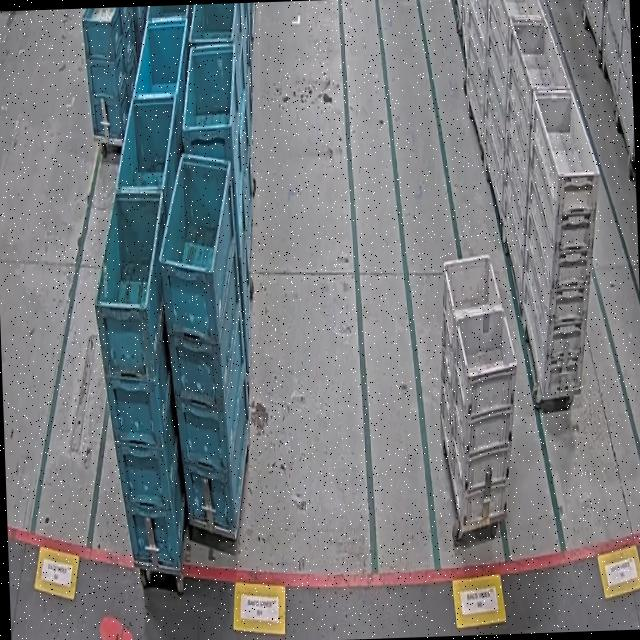6G: (512, 84, 604, 398)
8G: (438, 252, 522, 534)
B4: (89, 185, 189, 566), (155, 150, 253, 536)
B8: (81, 6, 139, 143)
